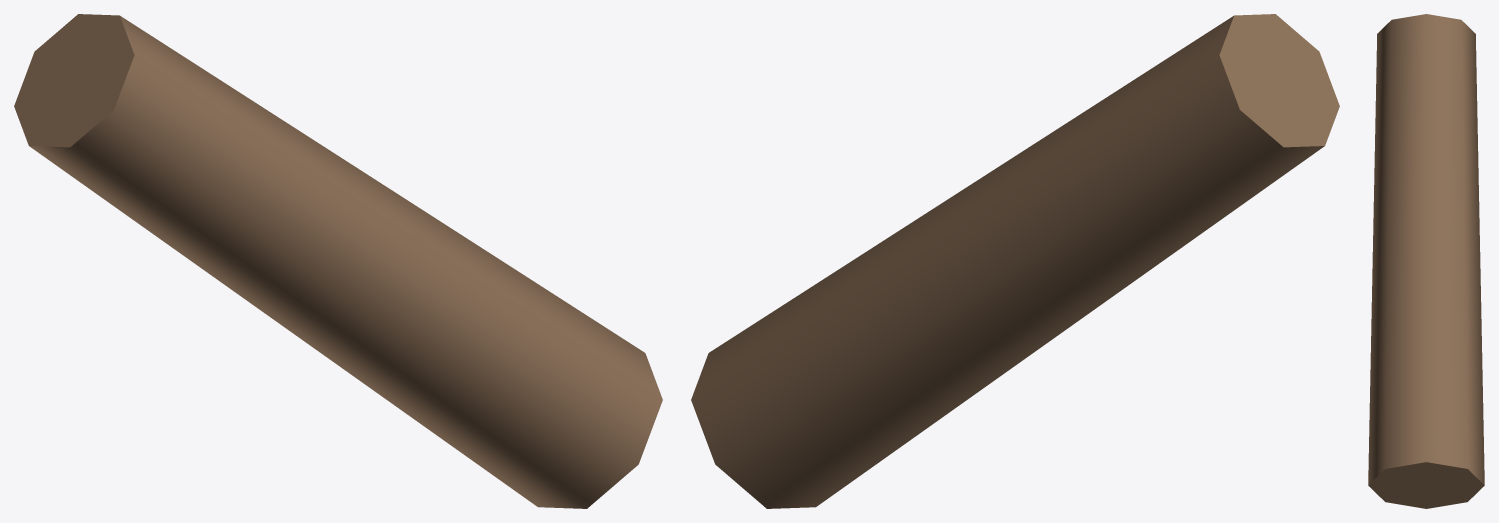
File: MacaqueTail.glb
3 views of the same model, side by side, from view 1: azimuth 30°, elevation 25°; view 2: azimuth 150°, elevation 25°; view 3: azimuth 270°, elevation 25° (orthographic). The views are drawn at different scales.
Parts seen in each view (by area): view 1: MacaqueTail; view 2: MacaqueTail; view 3: MacaqueTail.
Boxes of the visible parts, x1,y1,x2,y2 form: MacaqueTail: (14,14,662,508); MacaqueTail: (691,14,1339,508); MacaqueTail: (1368,14,1484,508).
Size of the model in its own units: 0.197 by 0.1813 by 0.052.
